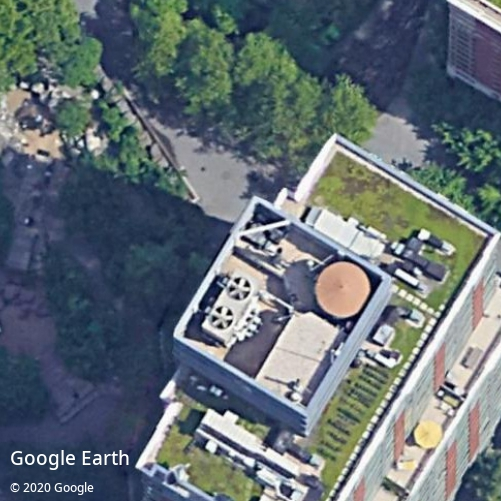Vent: (228, 276, 251, 301), (211, 306, 233, 329)
